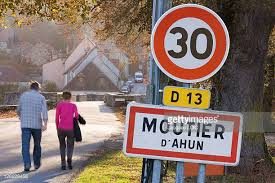Speed_limit_30km: (150, 4, 229, 82)
